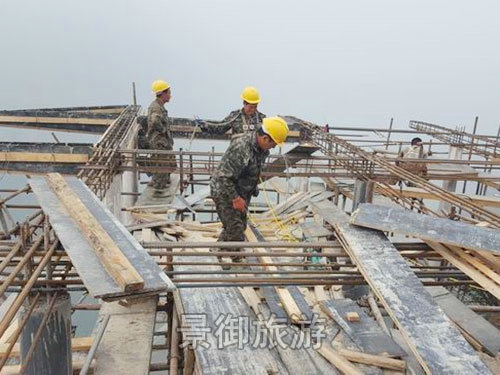yellow: (257, 115, 289, 151), (240, 86, 261, 116), (150, 79, 172, 104)
